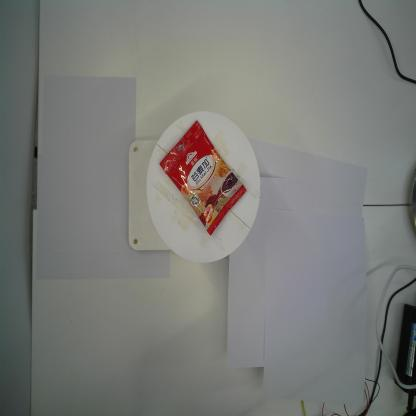Instant Drink: (158, 118, 248, 236)
